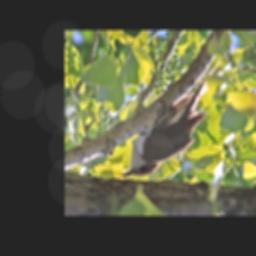Cuckoo: (119, 67, 211, 178)
